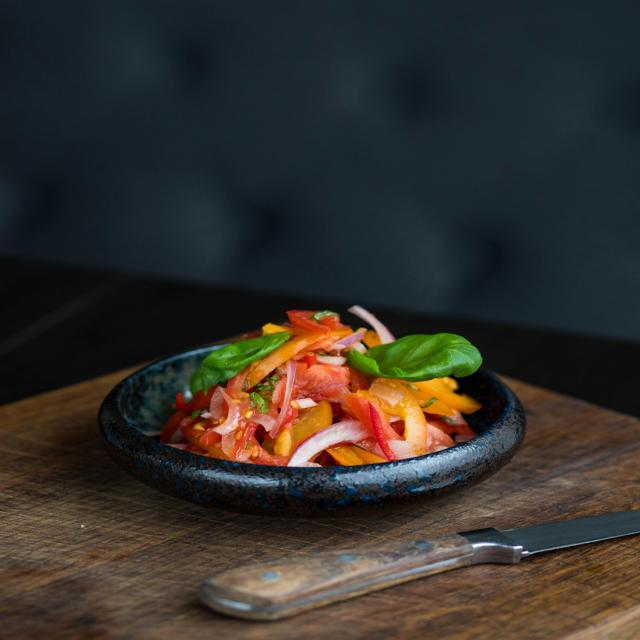Knife: (199, 511, 640, 621)
